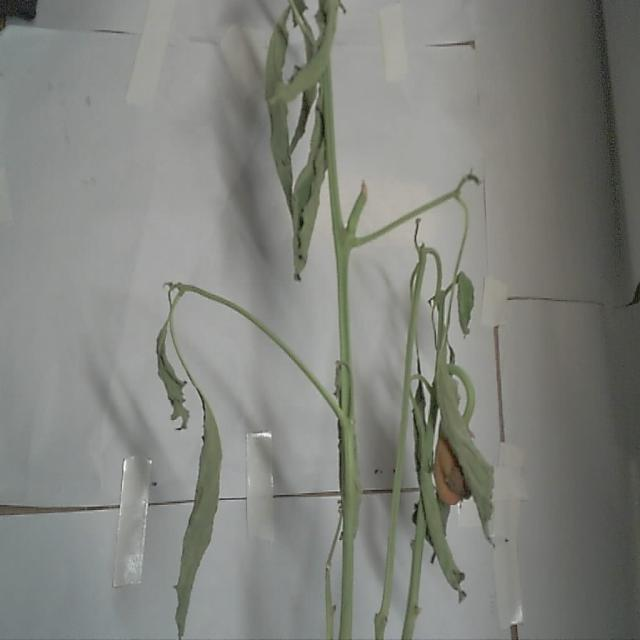Leaf: (433, 308, 498, 553), (176, 377, 223, 640), (265, 5, 297, 218), (290, 94, 326, 275), (155, 291, 190, 427)
